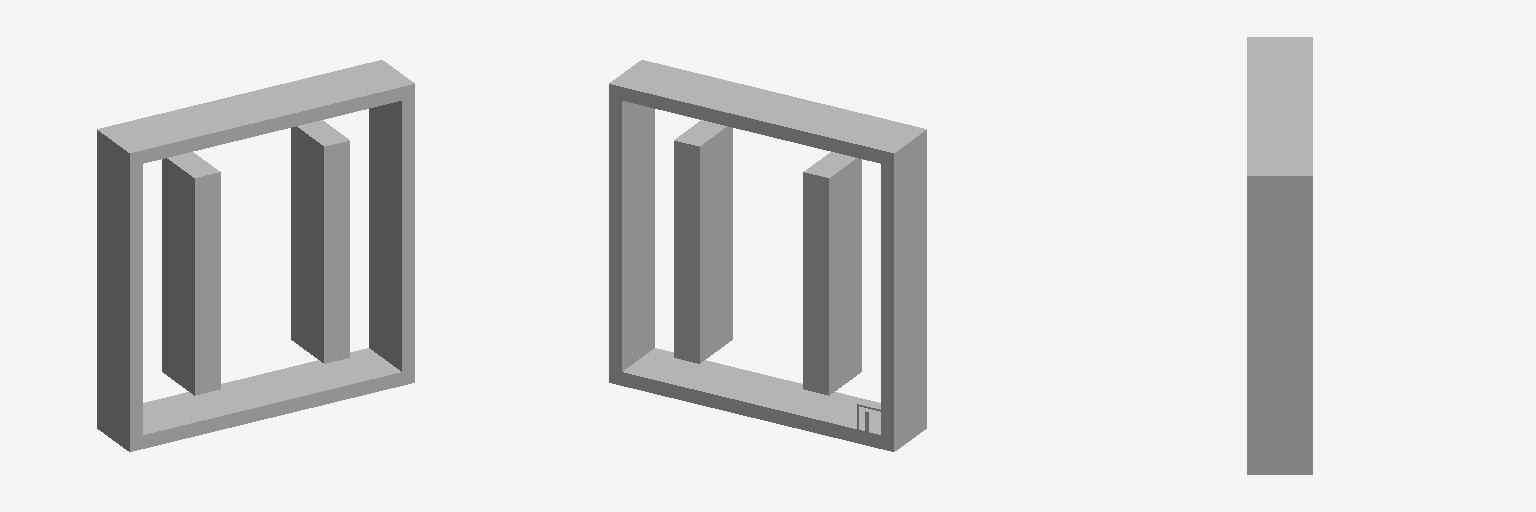
File: Room47.obj
The picture shows the model from 3 angles: view 1: azimuth 30°, elevation 25°; view 2: azimuth 150°, elevation 25°; view 3: azimuth 270°, elevation 25°; orthographic projection.
Visible parts, largest first — view 1: Curve.002_mesh_Curve.002; view 2: Curve.002_mesh_Curve.002; view 3: Curve.002_mesh_Curve.002.
Part boxes in pixels (left/top/right/bottom): Curve.002_mesh_Curve.002: left=97, top=60, right=414, bottom=451; Curve.002_mesh_Curve.002: left=609, top=60, right=926, bottom=451; Curve.002_mesh_Curve.002: left=1247, top=37, right=1312, bottom=474.
Bounding box in the file's own units: 1 × 1 × 0.2.